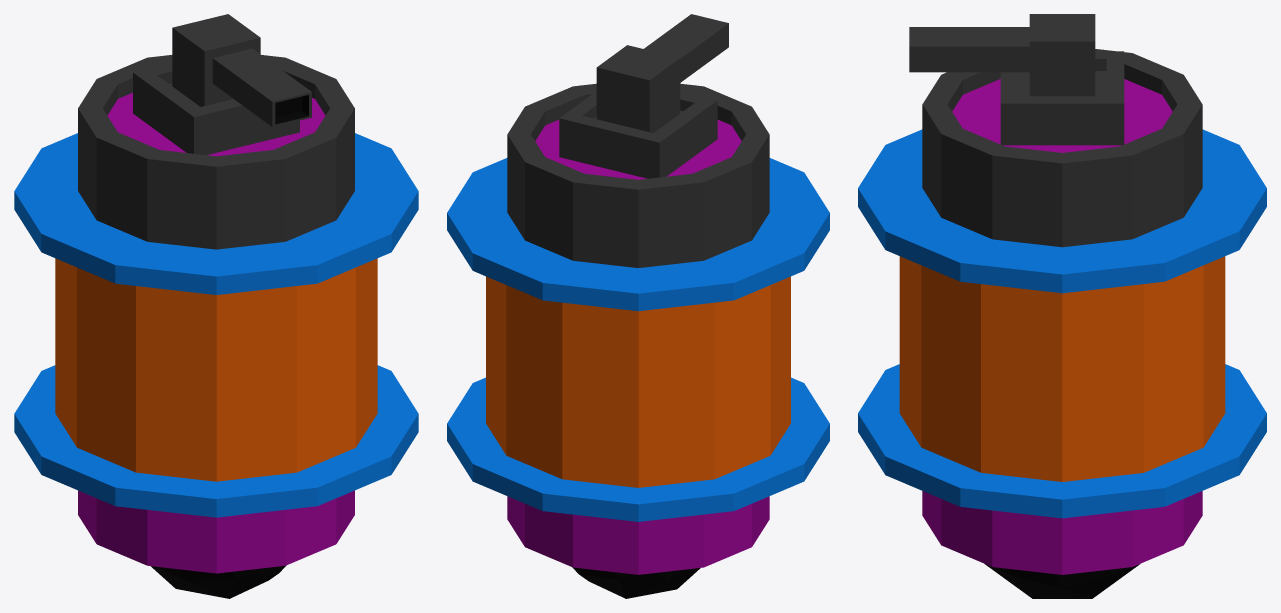
Rendered from npc_trooper.fbx.
3 renders of one model, left to right at view 1: azimuth 30°, elevation 25°; view 2: azimuth 150°, elevation 25°; view 3: azimuth 270°, elevation 25°, orthographic. The views are drawn at different scales.
Visible parts, largest first — view 1: Trooper, Trooper.001; view 2: Trooper, Trooper.001; view 3: Trooper, Trooper.001.
Boxes of the visible parts, x1,y1,x2,y2 form: Trooper: (14, 55, 418, 598); Trooper.001: (133, 14, 311, 155); Trooper: (447, 83, 829, 598); Trooper.001: (559, 14, 728, 178); Trooper: (858, 49, 1266, 598); Trooper.001: (909, 14, 1124, 145).
Size of the model in its own units: 26.71 by 40.75 by 26.71.
